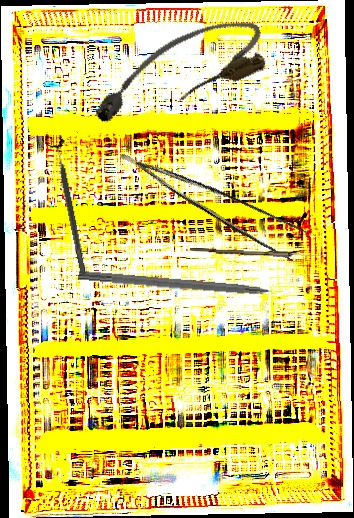Cannula: (79, 6, 275, 136)
Fixation Ring: (44, 136, 94, 277)
Hook Surgical: (77, 269, 295, 302)
Surgical Spoon: (189, 247, 328, 259)
Tissue Forceps: (120, 124, 315, 271)
